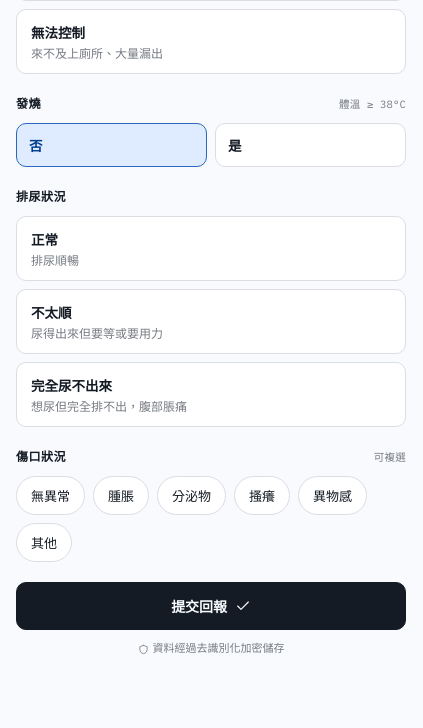
SymptomReport Page › shows "其他" text input when 其他 wound is selected
The image size is (423, 728).
(page scrolled)
Click the button "其他": (44, 543) [16,523,72,562]
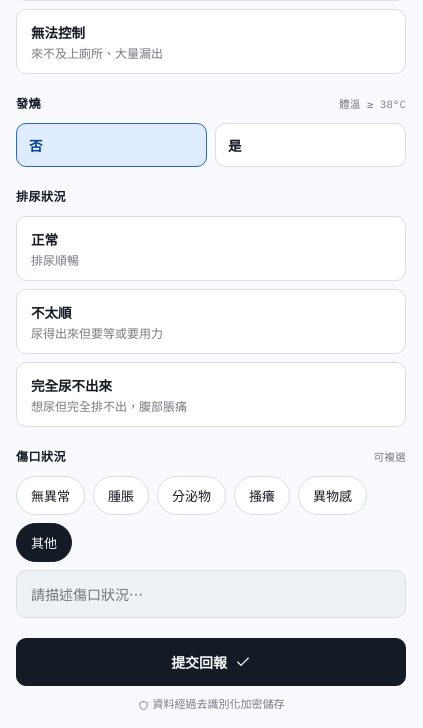
Expected: the field with placeholder "請描述傷口狀況…" is shown, [16,570,406,618]
